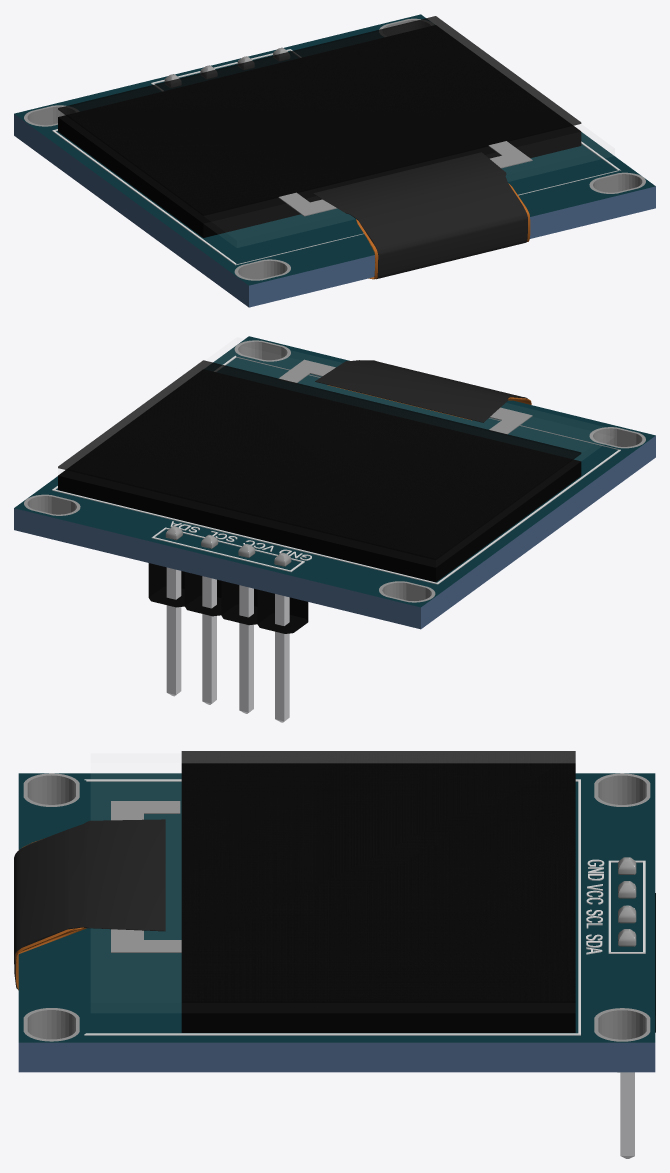
File: oled.glb
3 renders of one model, top to bottom at view 1: azimuth 30°, elevation 25°; view 2: azimuth 150°, elevation 25°; view 3: azimuth 270°, elevation 25°, orthographic. The views are drawn at different scales.
Parts seen in each view (by area): view 1: VIDRO_FUNDO-material, LCD-material, PRETO-material, plastico_trasp-material, Material_011-material, Metal_004-material (×2), branco_001-material; view 2: VIDRO_FUNDO-material, LCD-material, PRETO-material, Material_011-material, metal_parafuso_002-material, plastico_trasp-material, Metal_004-material (×2), plastico_preto_003-material, branco_001-material; view 3: VIDRO_FUNDO-material, LCD-material, PRETO-material, Material_011-material, plastico_trasp-material, Metal_004-material (×2), branco_001-material, metal_parafuso_002-material.
Part boxes in pixels (x1=…): VIDRO_FUNDO-material: x1=58, y1=25, x2=581, y2=237; LCD-material: x1=58, y1=16, x2=581, y2=215; PRETO-material: x1=14, y1=14, x2=655, y2=285; plastico_trasp-material: x1=313, y1=152, x2=527, y2=279; Material_011-material: x1=14, y1=114, x2=655, y2=307; Metal_004-material (×2): x1=24, y1=18, x2=645, y2=280; branco_001-material: x1=52, y1=49, x2=621, y2=265; VIDRO_FUNDO-material: x1=58, y1=370, x2=581, y2=582; LCD-material: x1=58, y1=360, x2=581, y2=560; PRETO-material: x1=14, y1=336, x2=655, y2=607; Material_011-material: x1=14, y1=436, x2=655, y2=629; metal_parafuso_002-material: x1=166, y1=531, x2=289, y2=722; plastico_trasp-material: x1=315, y1=360, x2=527, y2=422; Metal_004-material (×2): x1=24, y1=340, x2=645, y2=602; plastico_preto_003-material: x1=148, y1=563, x2=308, y2=633; branco_001-material: x1=52, y1=355, x2=620, y2=584; VIDRO_FUNDO-material: x1=181, y1=764, x2=575, y2=1032; LCD-material: x1=181, y1=751, x2=575, y2=1002; PRETO-material: x1=18, y1=773, x2=655, y2=1042; Material_011-material: x1=18, y1=1042, x2=655, y2=1072; plastico_trasp-material: x1=14, y1=819, x2=165, y2=989; Metal_004-material (×2): x1=23, y1=773, x2=650, y2=1072; branco_001-material: x1=84, y1=779, x2=645, y2=1035; metal_parafuso_002-material: x1=620, y1=858, x2=634, y2=1158.
Bounding box in the file's own units: 0.0291 × 0.0125 × 0.0294.
